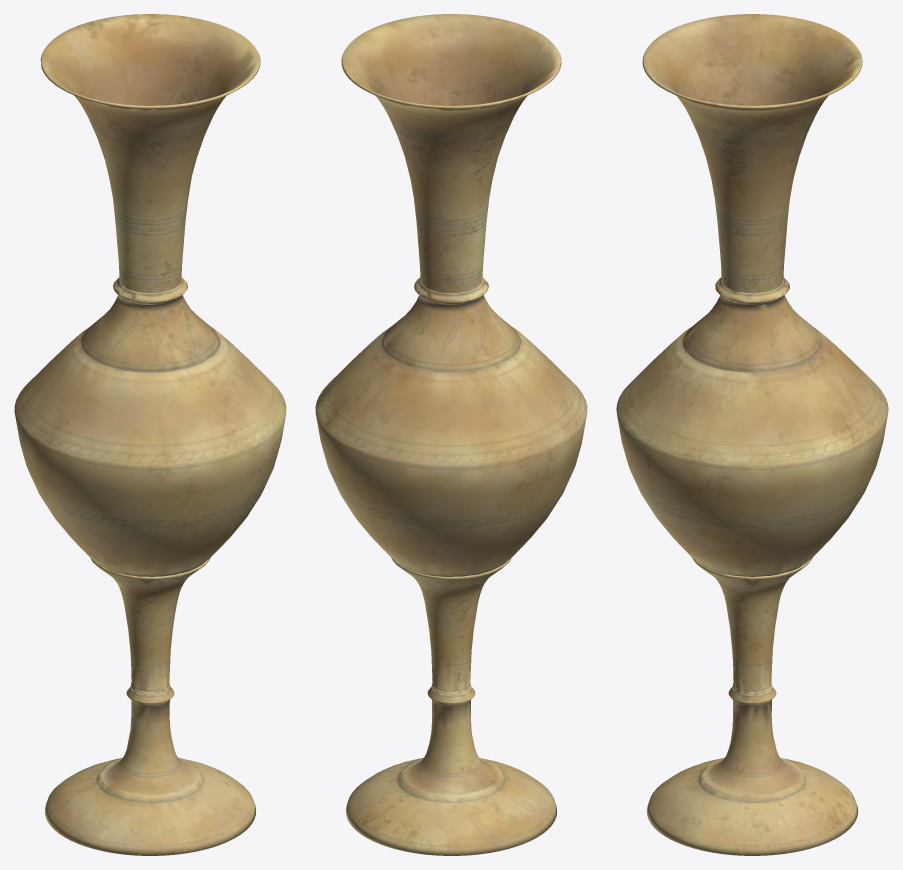
File: brass_vase_01.glb
3 renders of one model, left to right at view 1: azimuth 30°, elevation 25°; view 2: azimuth 150°, elevation 25°; view 3: azimuth 270°, elevation 25°, orthographic.
Parts seen in each view (by area): view 1: brass_vase_01; view 2: brass_vase_01; view 3: brass_vase_01.
Boxes of the visible parts, x1=… form: brass_vase_01: x1=14, y1=14, x2=286, y2=855; brass_vase_01: x1=315, y1=14, x2=587, y2=855; brass_vase_01: x1=616, y1=14, x2=888, y2=855.
Size of the model in its own units: 0.2272 by 0.6925 by 0.2272.
Materials: 1 (1 with a texture image).
